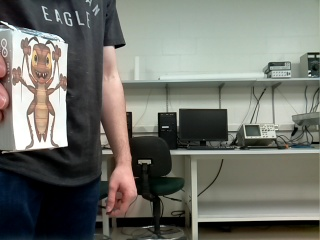Angry: (12, 37, 67, 150)
